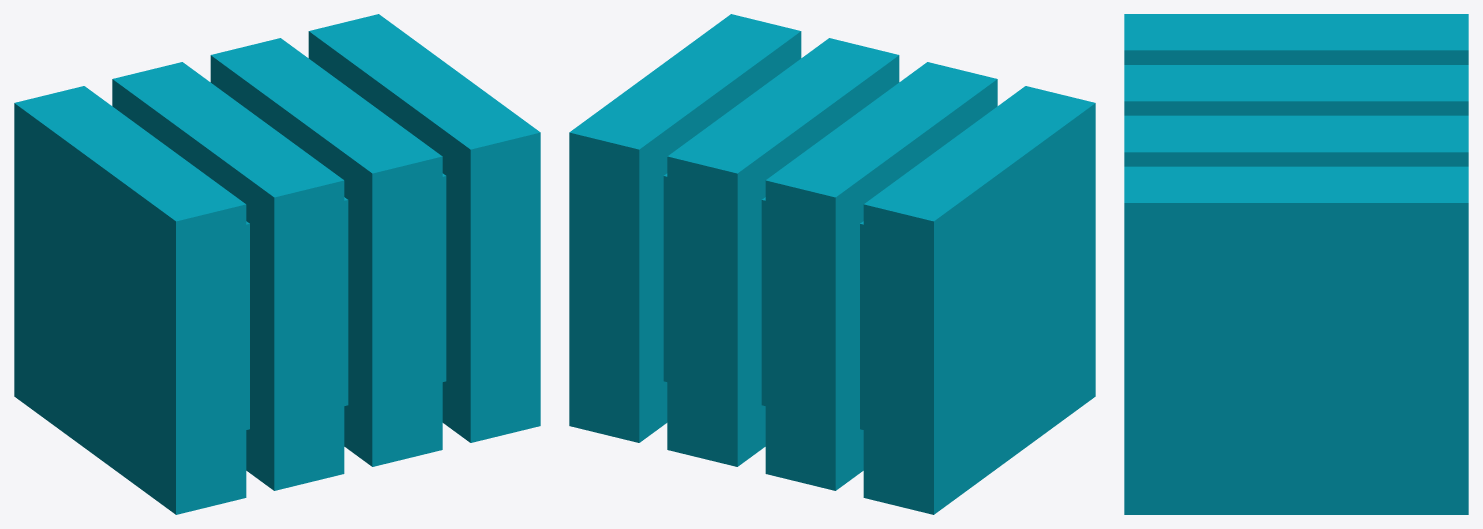
Rendered from databaseVer2.glb.
3 renders of one model, left to right at view 1: azimuth 30°, elevation 25°; view 2: azimuth 150°, elevation 25°; view 3: azimuth 270°, elevation 25°, orthographic. The views are drawn at different scales.
Visible parts, largest first — view 1: Mesh_Mesh_head_geo.001_lambert2SG.001; view 2: Mesh_Mesh_head_geo.001_lambert2SG.001; view 3: Mesh_Mesh_head_geo.001_lambert2SG.001.
Part boxes in pixels (left/top/right/bottom): Mesh_Mesh_head_geo.001_lambert2SG.001: left=14, top=14, right=540, bottom=514; Mesh_Mesh_head_geo.001_lambert2SG.001: left=569, top=14, right=1095, bottom=514; Mesh_Mesh_head_geo.001_lambert2SG.001: left=1124, top=14, right=1468, bottom=514.
Size of the model in its own units: 26 by 20 by 20.
